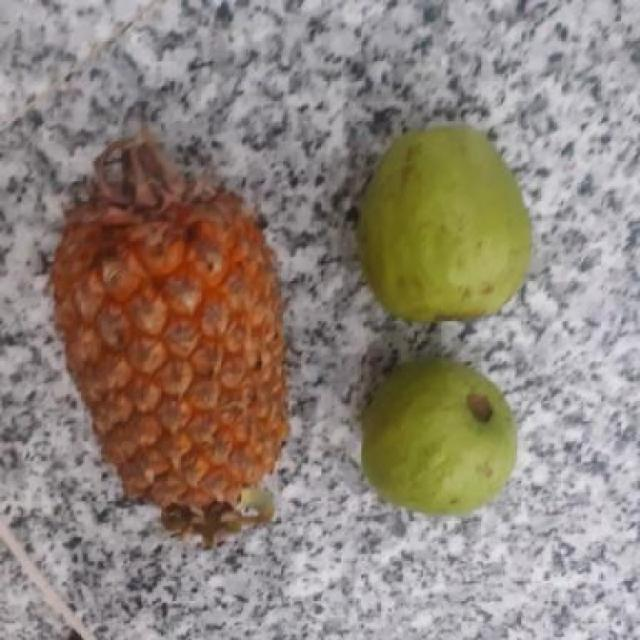guava: (352, 128, 543, 314), (363, 358, 528, 518)
pineapple: (57, 189, 294, 523)
